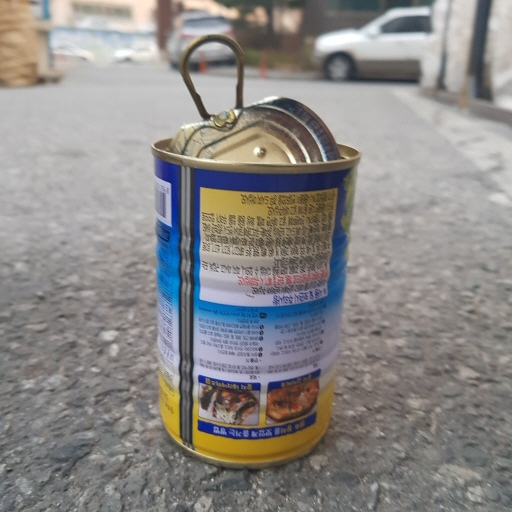Metal_1: (150, 32, 363, 466)
